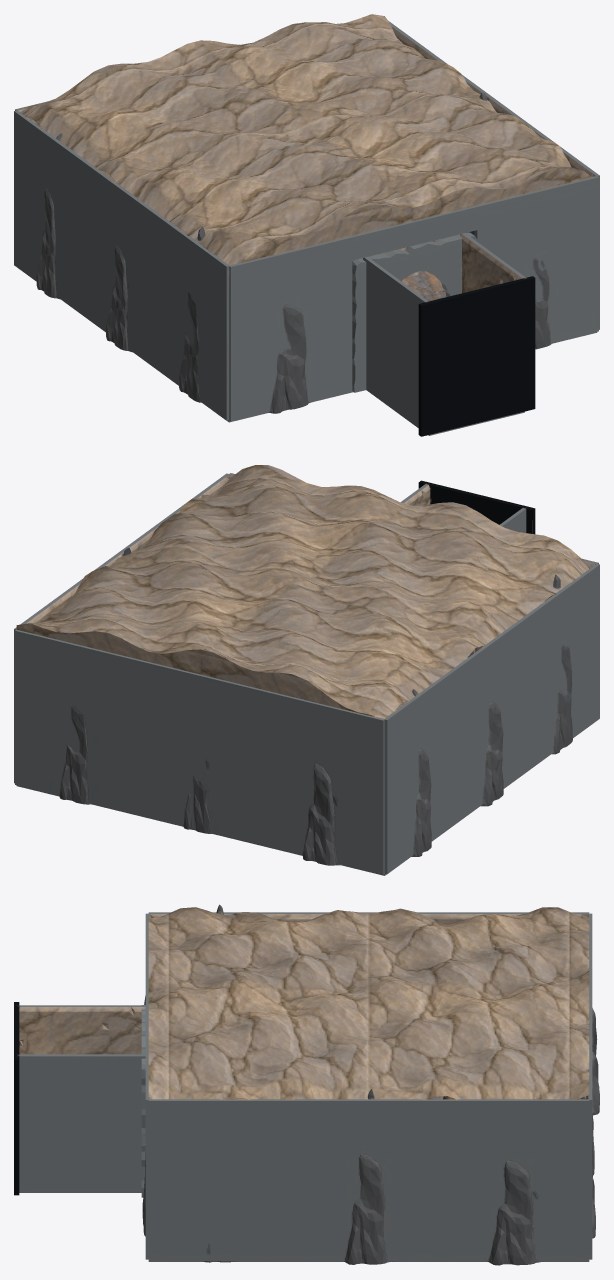
Rendered from room.glb.
The picture shows the model from 3 angles, top to bottom: view 1: azimuth 30°, elevation 25°; view 2: azimuth 150°, elevation 25°; view 3: azimuth 270°, elevation 25°; orthographic projection. The views are drawn at different scales.
Parts seen in each view (by area): view 1: DRAGON-LAIR; view 2: DRAGON-LAIR; view 3: DRAGON-LAIR.
Part boxes in pixels (box(x1,y1,x2,y2)): DRAGON-LAIR: box(14, 14, 599, 436); DRAGON-LAIR: box(14, 465, 599, 875); DRAGON-LAIR: box(14, 904, 599, 1265).
Bounding box in the file's own units: 10.47 × 4.79 × 13.3.
1 material, 1 textured.
